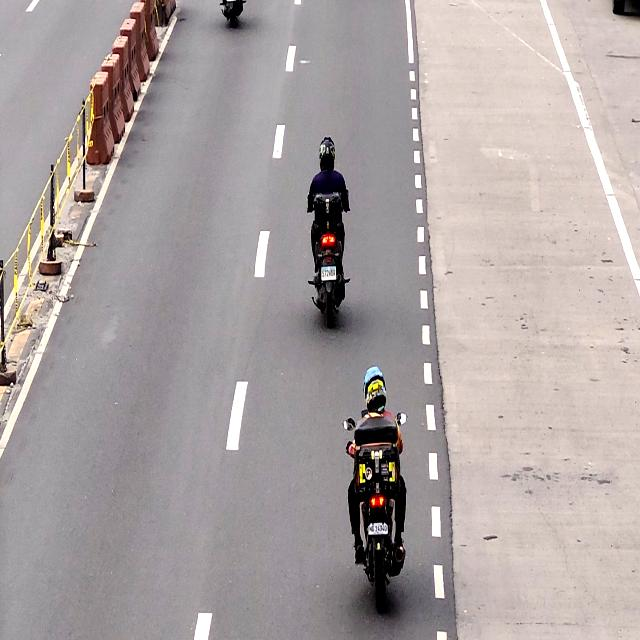License-Plate: (368, 522, 388, 540), (319, 266, 336, 282)
Motorcycle: (353, 365, 405, 614), (313, 134, 345, 325)
